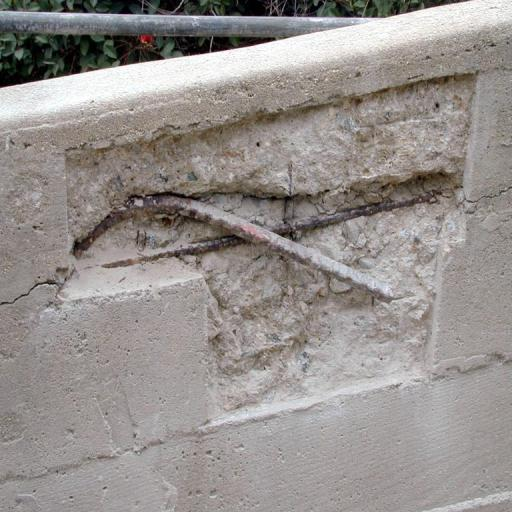spalling: (62, 82, 476, 420), (3, 267, 68, 321)
